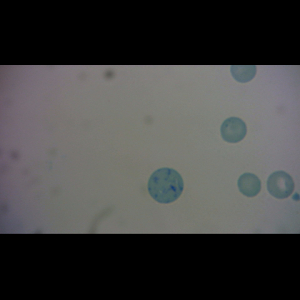aggregate reticulocyte: (146, 166, 185, 204)
erythrocyte: (265, 169, 295, 200), (236, 172, 264, 198)
punctate reticulocyte: (219, 116, 248, 144)
